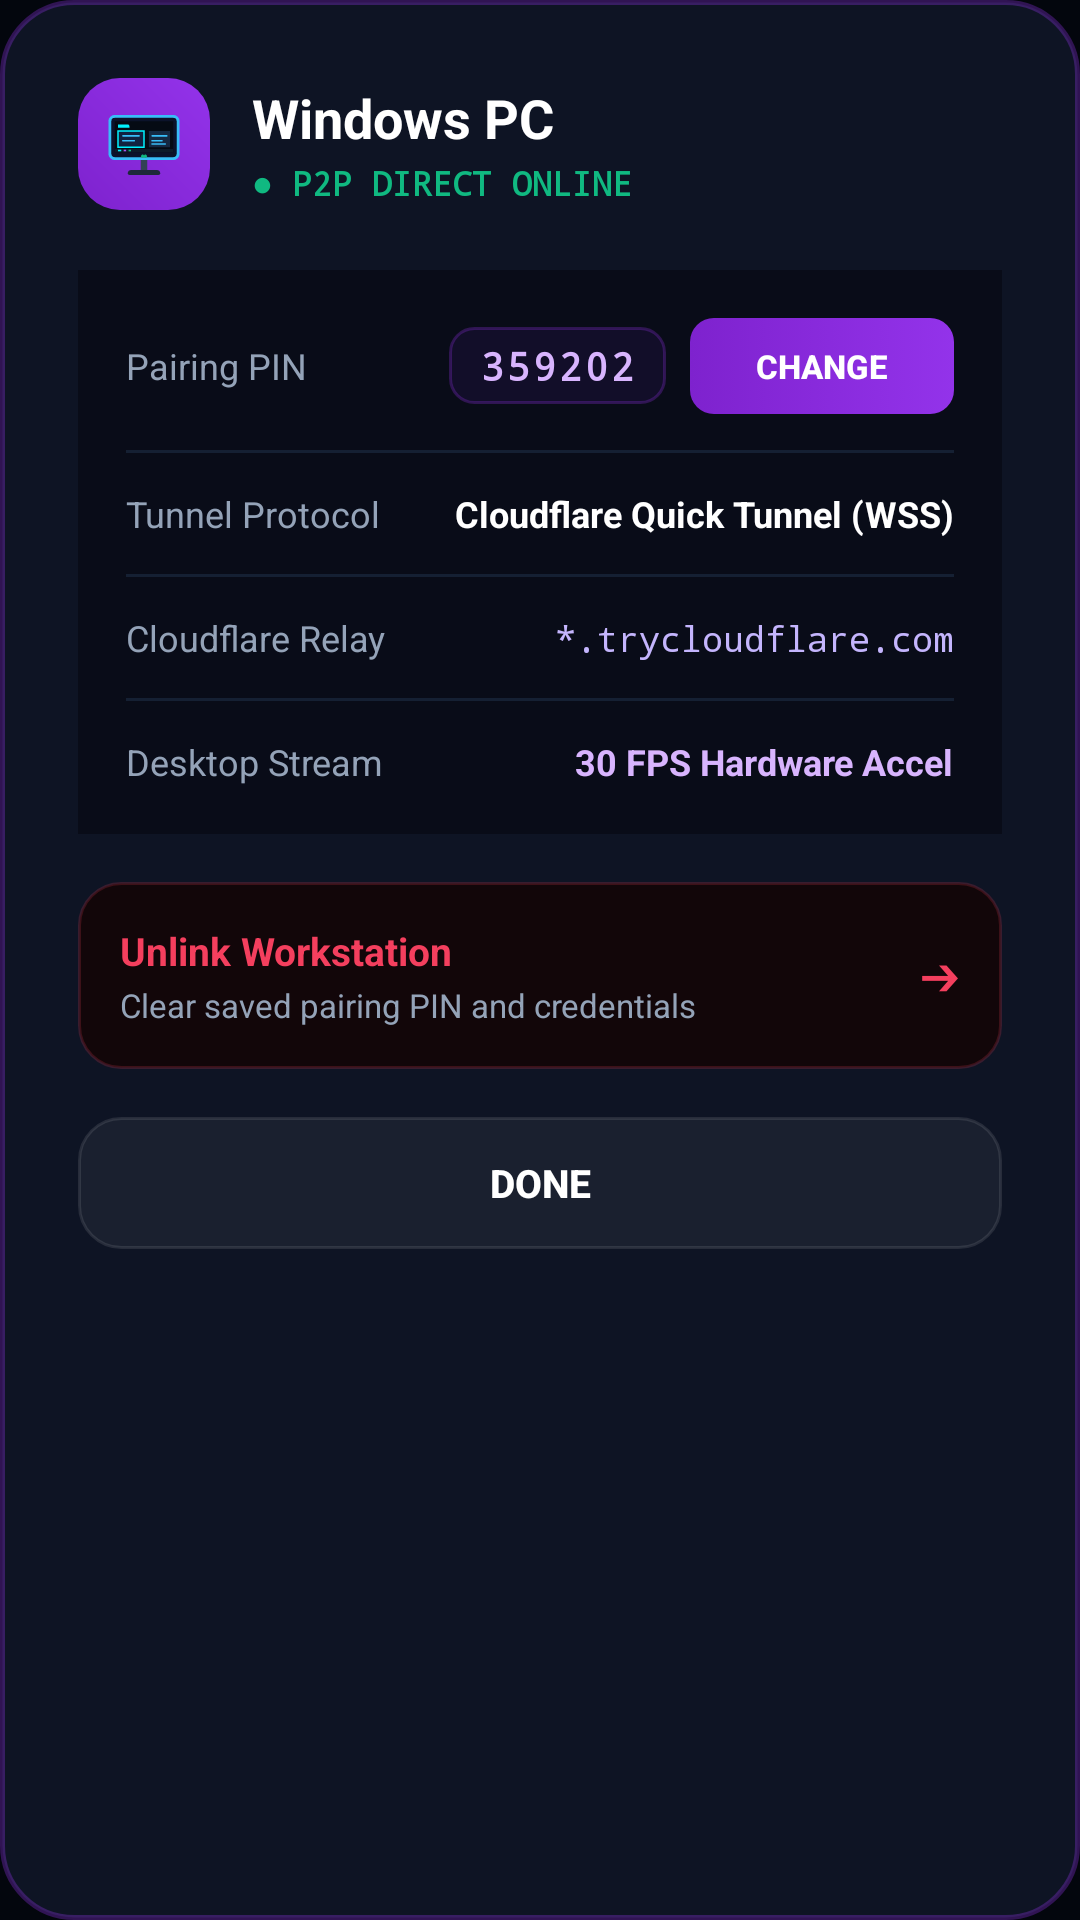

Icons on this 1080*1920 Android screen, each with its box as (x1=x1, y1=y1, x2=x2, y2=y2):
Workstation Icon: (x1=78, y1=78, x2=210, y2=210)
